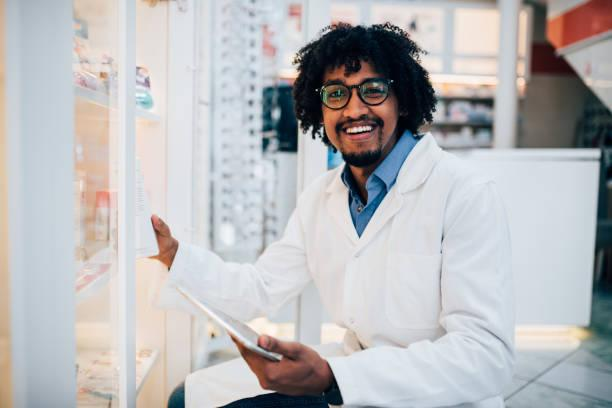lab_coat: (296, 150, 516, 406)
